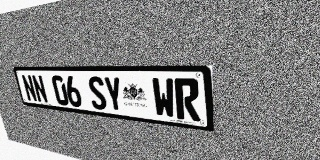0: (51, 75, 70, 106)
6: (63, 76, 83, 108)
N: (31, 75, 49, 104), (21, 75, 38, 102)
R: (174, 78, 201, 122)
S: (87, 76, 108, 111)
W: (151, 78, 176, 119)
Y: (103, 76, 125, 113)
